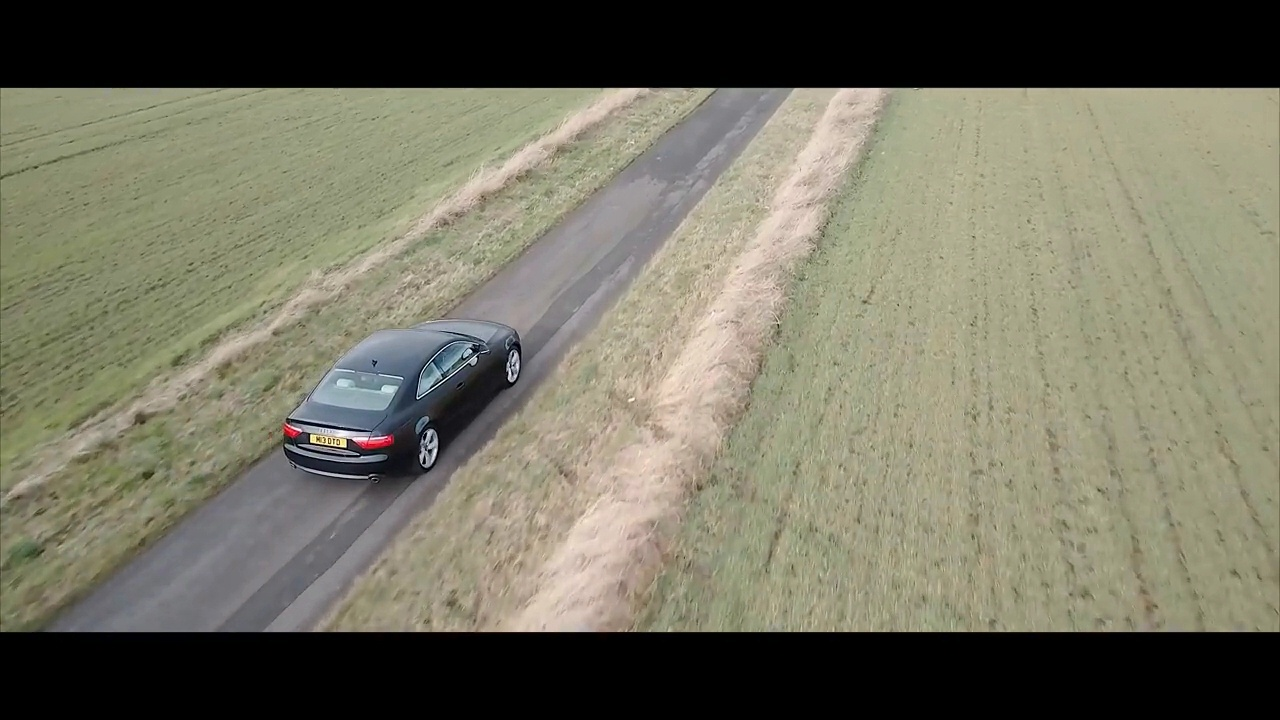araba: (273, 313, 528, 488)
